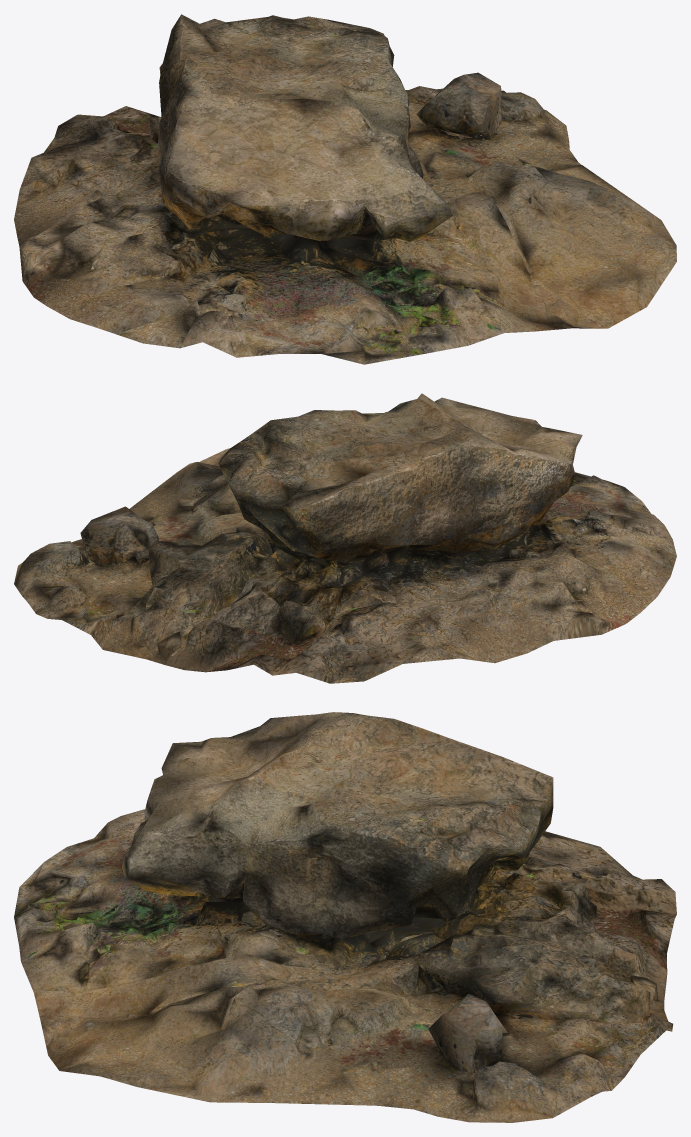
File: coast_rocks_05_mid.gltf
3 renders of one model, top to bottom at view 1: azimuth 30°, elevation 25°; view 2: azimuth 150°, elevation 25°; view 3: azimuth 270°, elevation 25°, orthographic. The views are drawn at different scales.
Parts seen in each view (by area): view 1: coast_rocks_05; view 2: coast_rocks_05; view 3: coast_rocks_05.
Part boxes in pixels (x1,y1,x2,y2): coast_rocks_05: (14,14,676,364); coast_rocks_05: (14,393,676,683); coast_rocks_05: (14,712,676,1122).
Bounding box in the file's own units: 4.03 × 1.31 × 3.75.
Materials: 1 (1 with a texture image).
